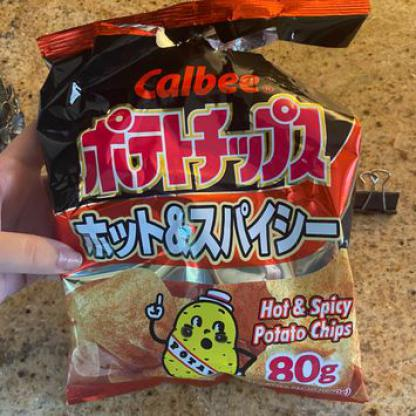potatochip: (28, 0, 390, 412)
